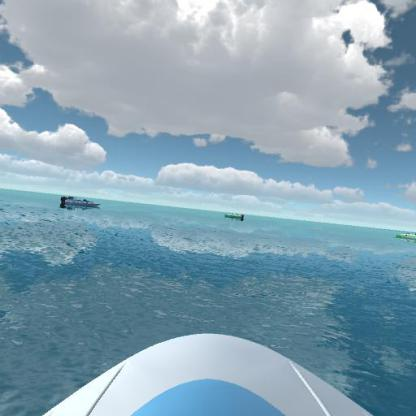usv0: (392, 230, 416, 244), (223, 210, 245, 223)
usv1: (58, 191, 104, 213)
